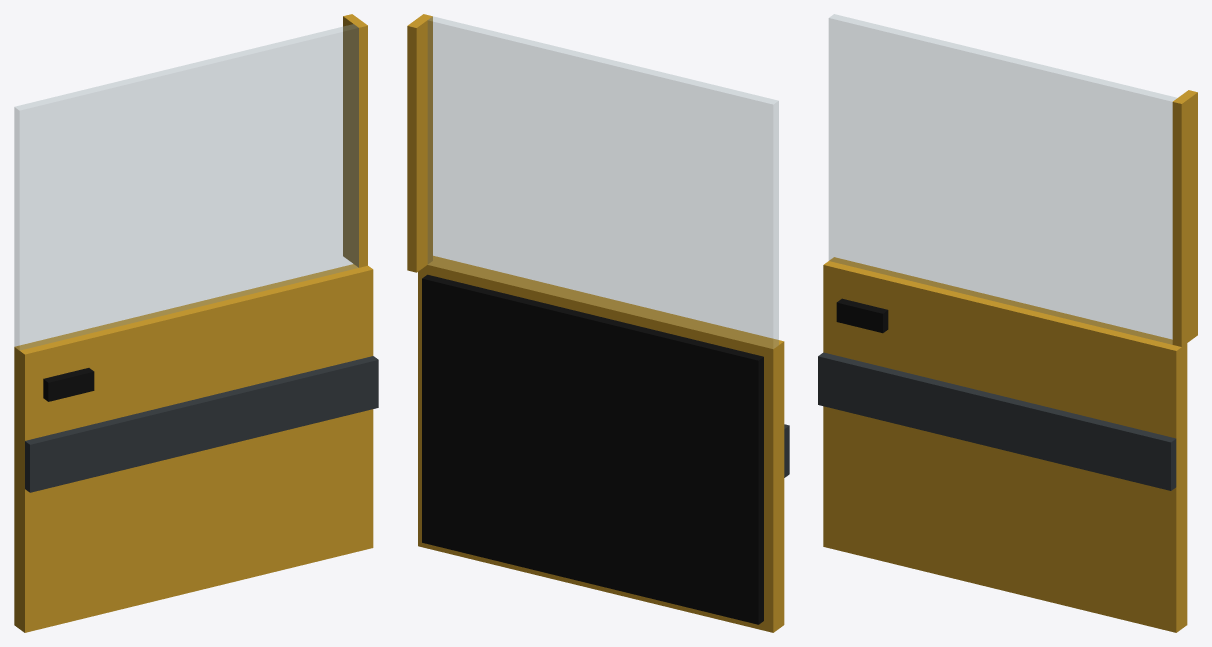
Rendered from food_truck_front_door.glb.
The picture shows the model from 3 angles, left to right: view 1: azimuth 30°, elevation 25°; view 2: azimuth 150°, elevation 25°; view 3: azimuth 330°, elevation 25°; orthographic projection.
Visible parts, largest first — view 1: body:compound; view 2: body:compound; view 3: body:compound.
Boxes of the visible parts, x1,y1,x2,y2 form: body:compound: [14, 14, 378, 632]; body:compound: [407, 14, 789, 632]; body:compound: [818, 14, 1197, 632].
Bounding box in the file's own units: 1.19 × 1.69 × 0.1562.
